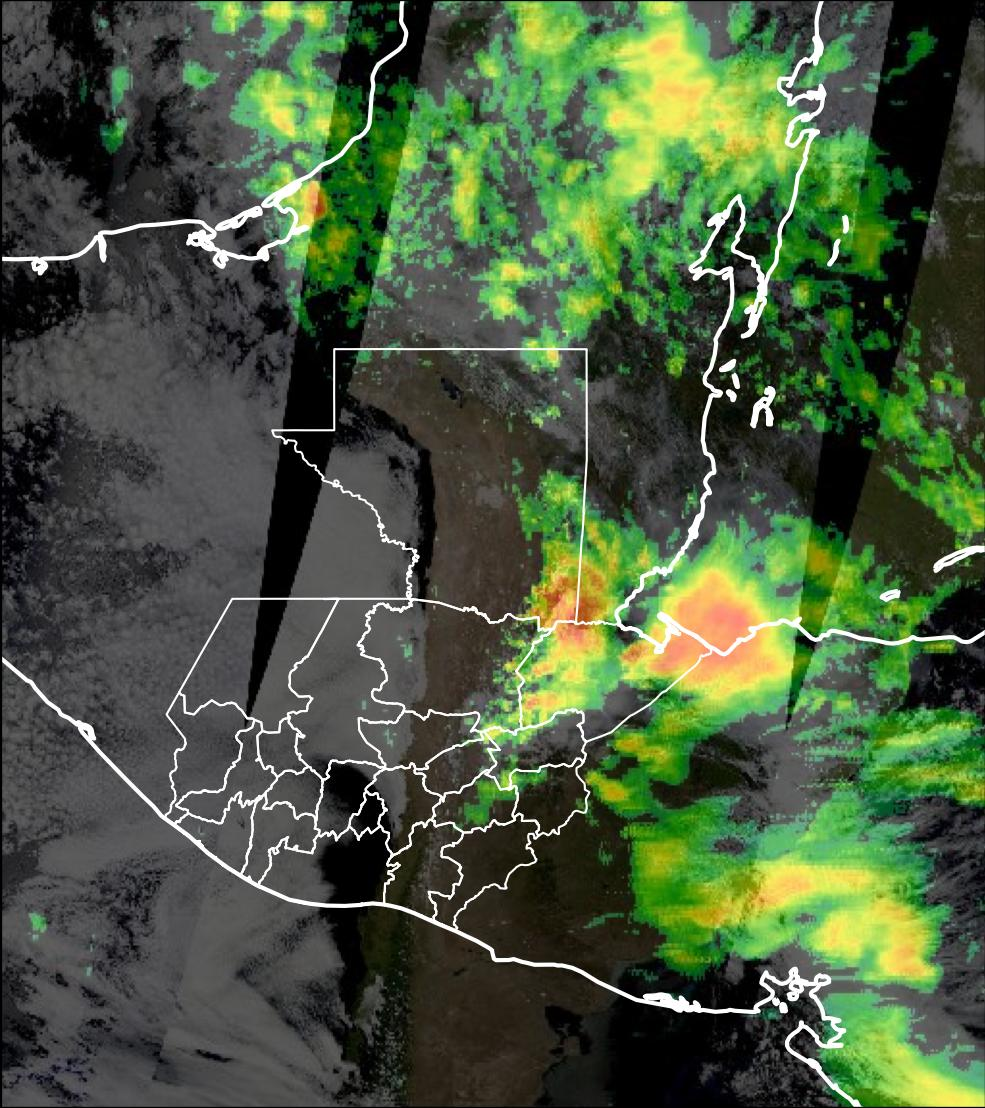precipitacion: (619, 566, 790, 693)
